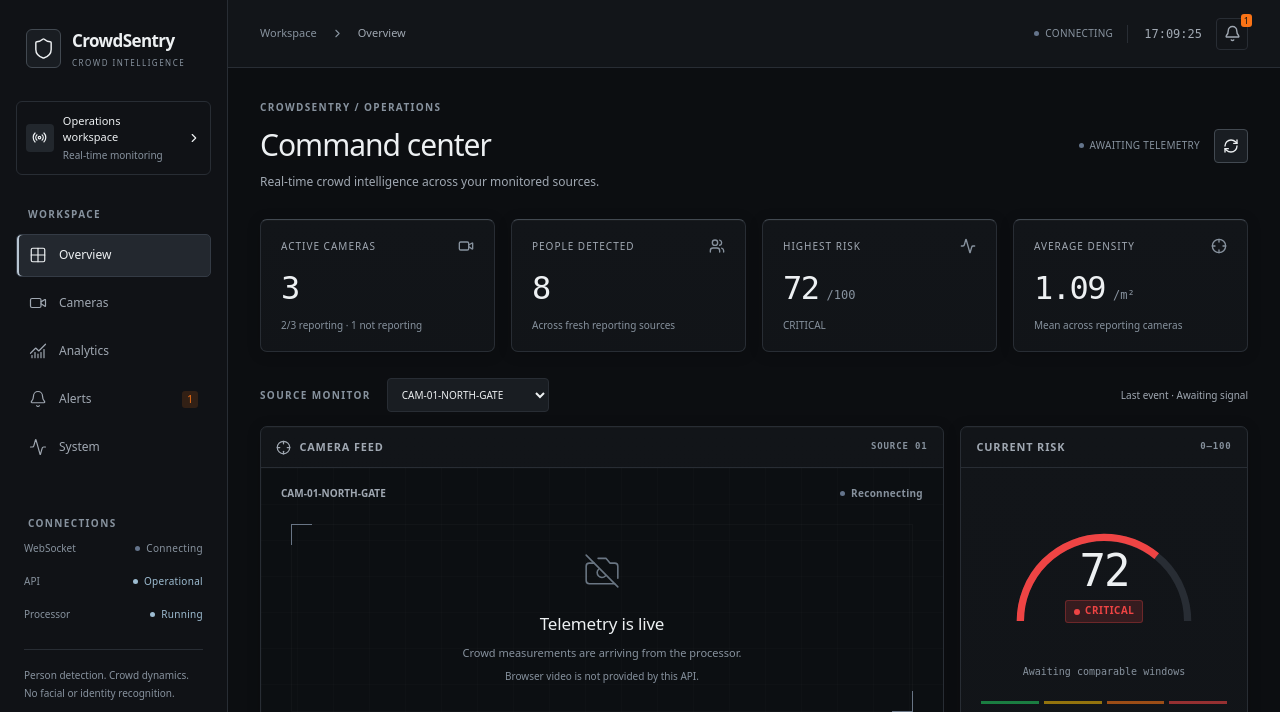
dashboard › provides command-center navigation without losing the camera inventory
The image size is (1280, 712).
Expected: the heading "Command center" is shown, [260,124,491,165]
Click the link "Cameras" at (69, 303), box [29,294,108,312]
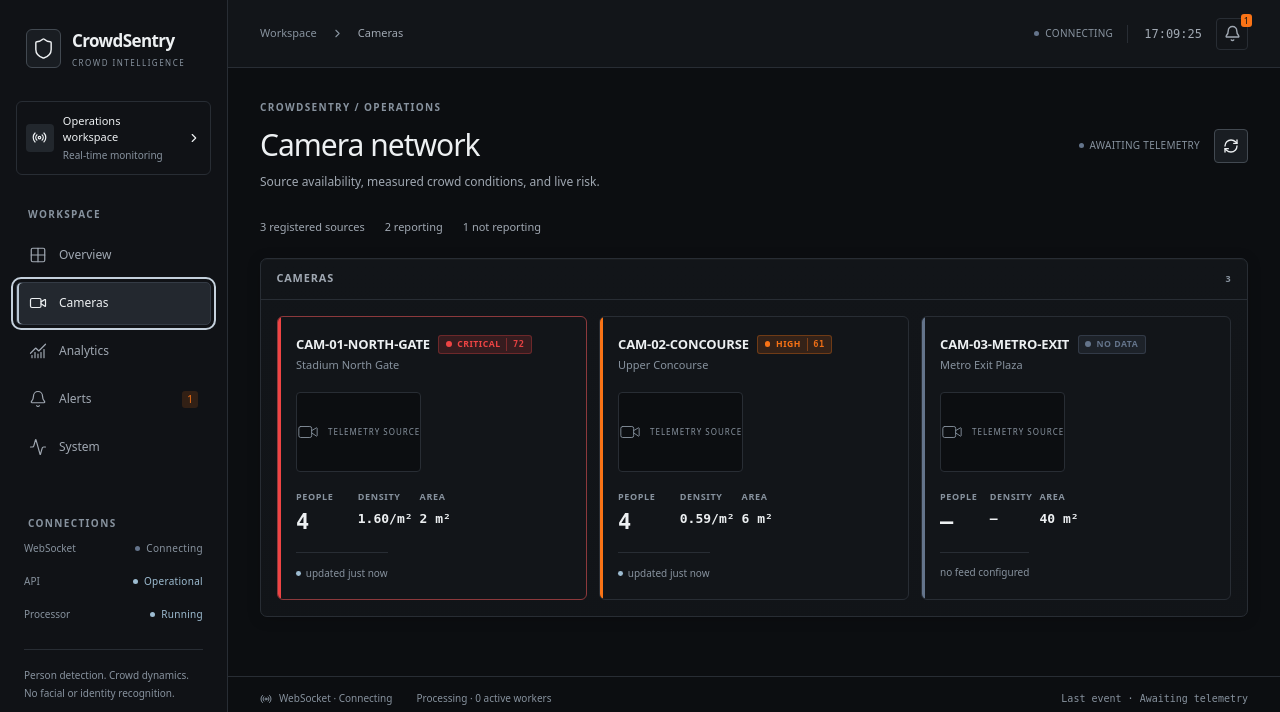
Expected: the text "CAM-02-CONCOURSE" is shown, [618,335,749,354]
Result: the heading "Camera network" is shown at [260,124,480,165]
Click the link "Alerts 1" at (75, 398), box [29,390,198,408]
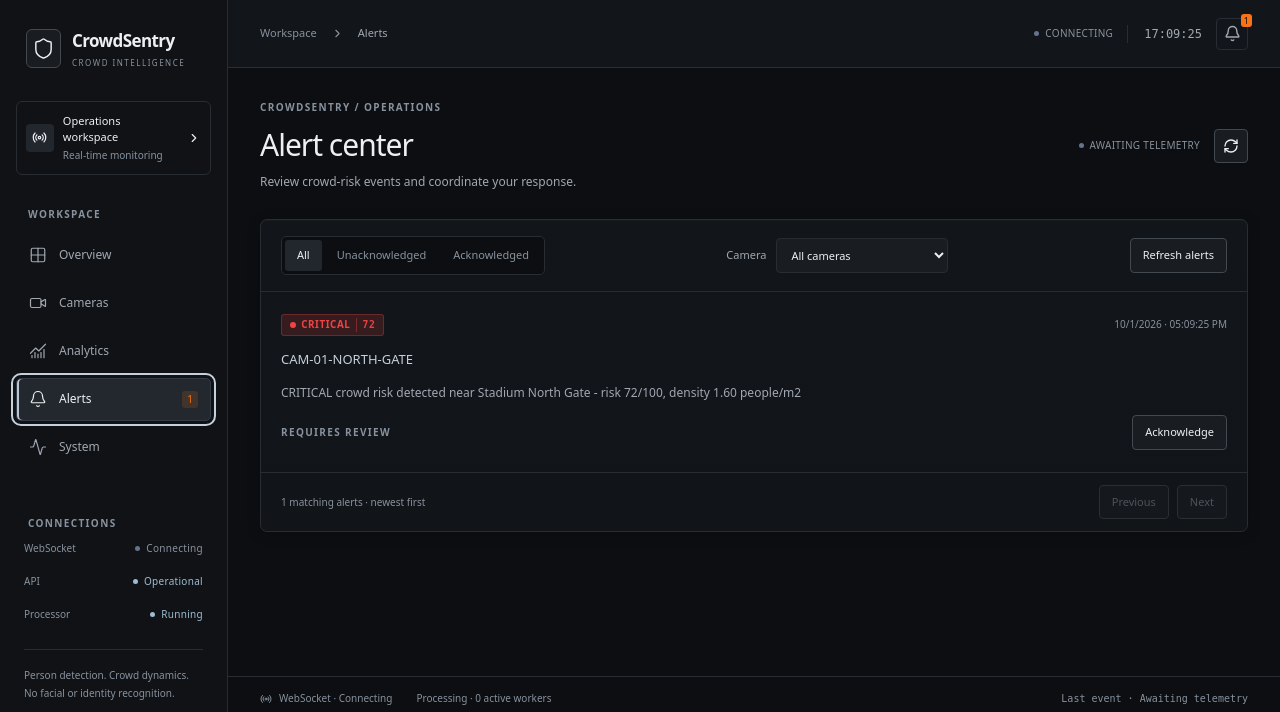
Result: the heading "Alert center" is shown at [260,124,413,165]
Result: the button "Acknowledged" is shown at [441,240,541,270]
